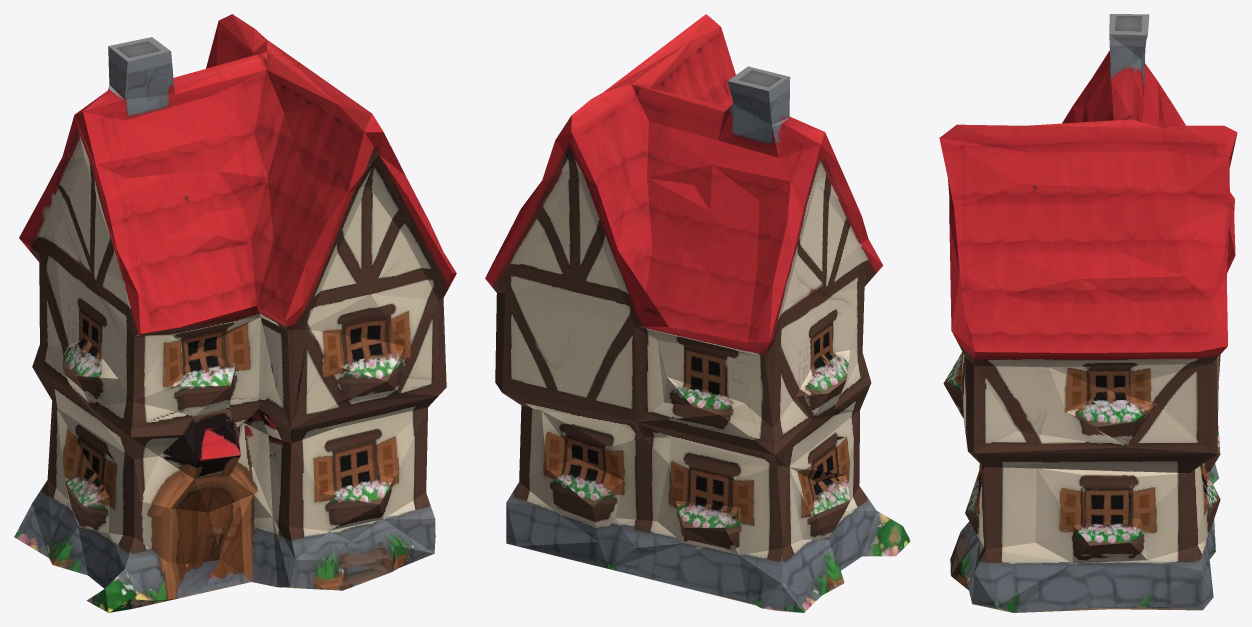
Rendered from house_terra_6_optimize_proxy600.glb.
3 views of the same model, side by side, from view 1: azimuth 30°, elevation 25°; view 2: azimuth 150°, elevation 25°; view 3: azimuth 270°, elevation 25° (orthographic). The views are drawn at different scales.
Parts seen in each view (by area): view 1: proxy600; view 2: proxy600; view 3: proxy600.
Part boxes in pixels (x1,y1,x2,y2): proxy600: (14, 14, 456, 612); proxy600: (485, 14, 910, 612); proxy600: (939, 14, 1237, 612).
Size of the model in its own units: 1.32 by 1.88 by 1.05.
1 material, 1 textured.
